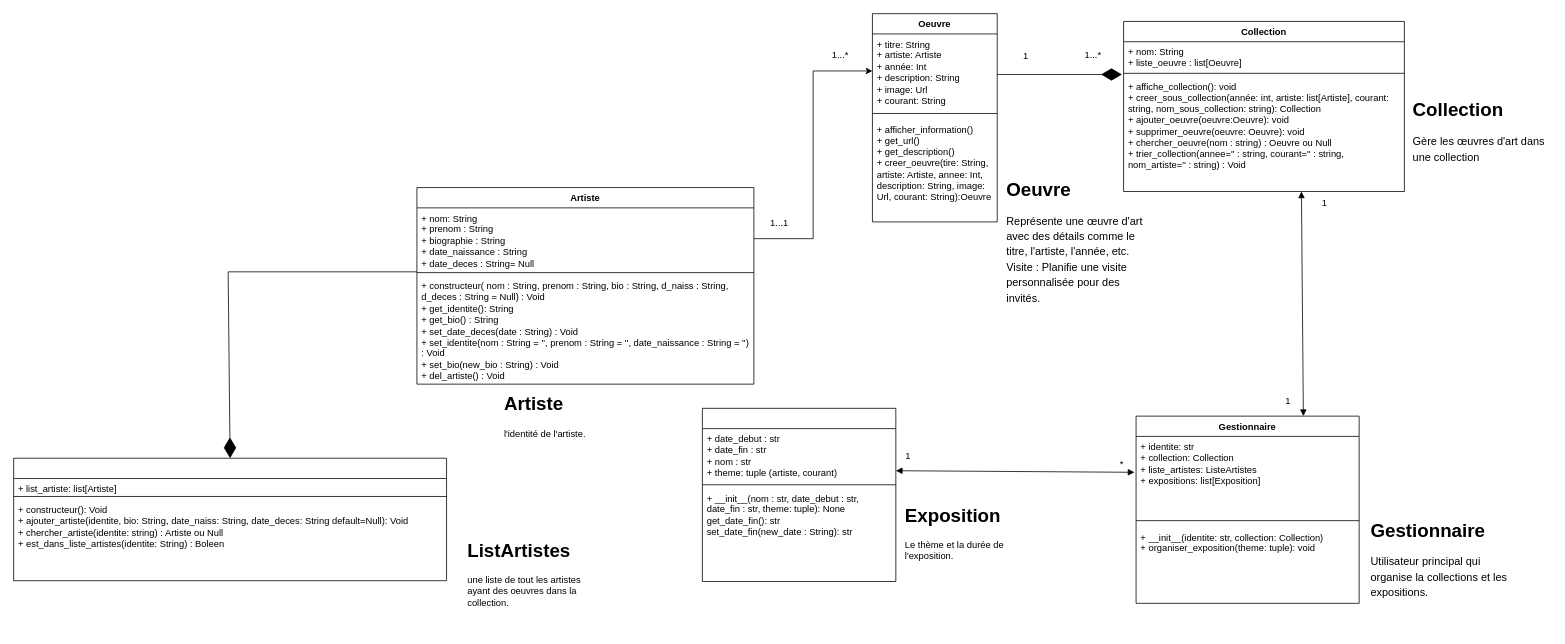
This 1565x644 diagram has some shape labels left out. The shapes that lost their labels are listed below. From the top down, each one's box as (x1, y1, x2, y2) in pixels, then its label:
(702, 408, 896, 581): Exposition
(13, 457, 447, 581): ListArtistes
